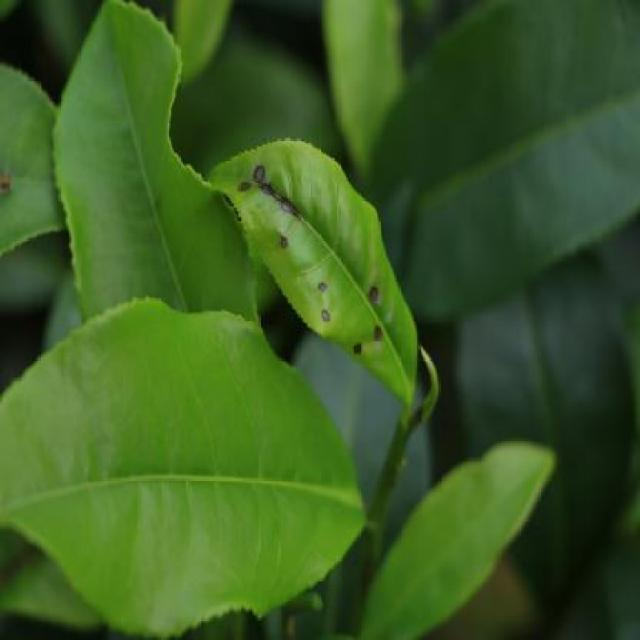Tea Mosquito bug infested leaf: (180, 131, 425, 375)
